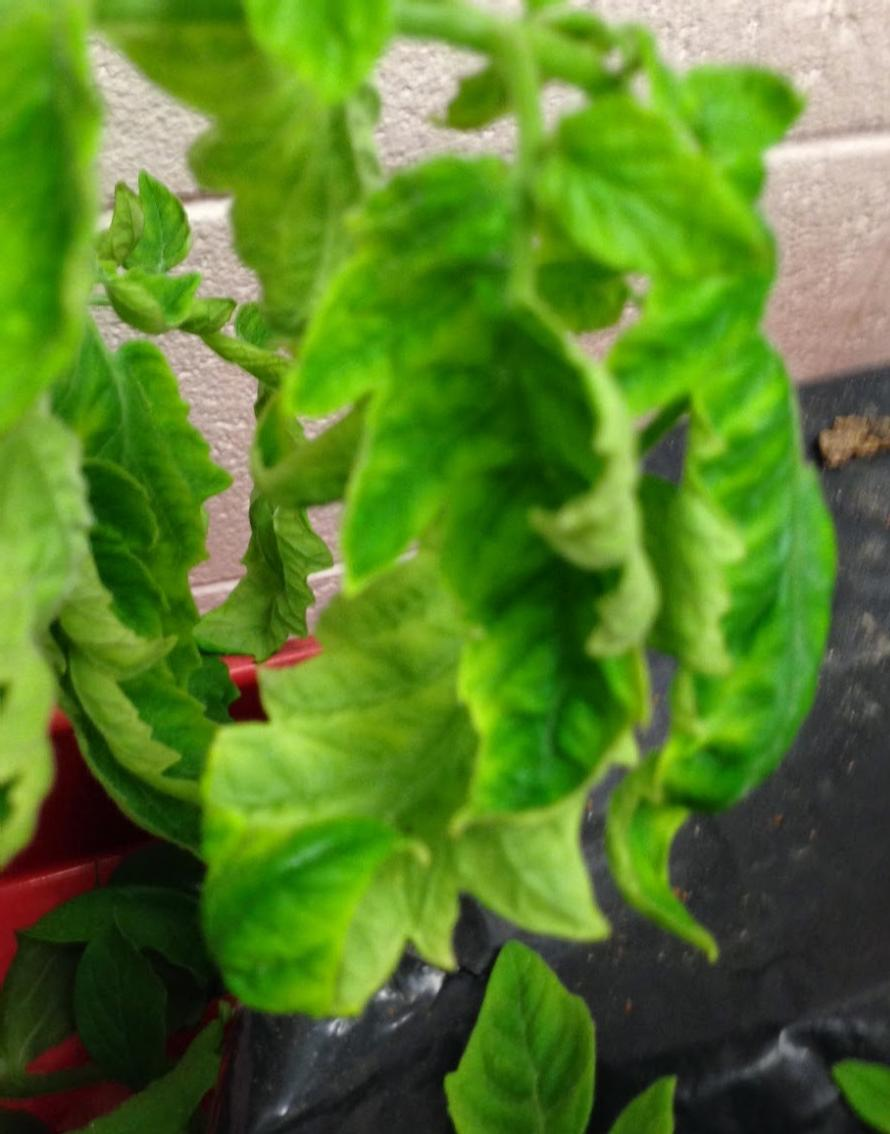Tomato leaf yellow virus: (326, 101, 669, 863), (654, 0, 890, 828), (0, 0, 137, 466), (450, 948, 608, 1134)
